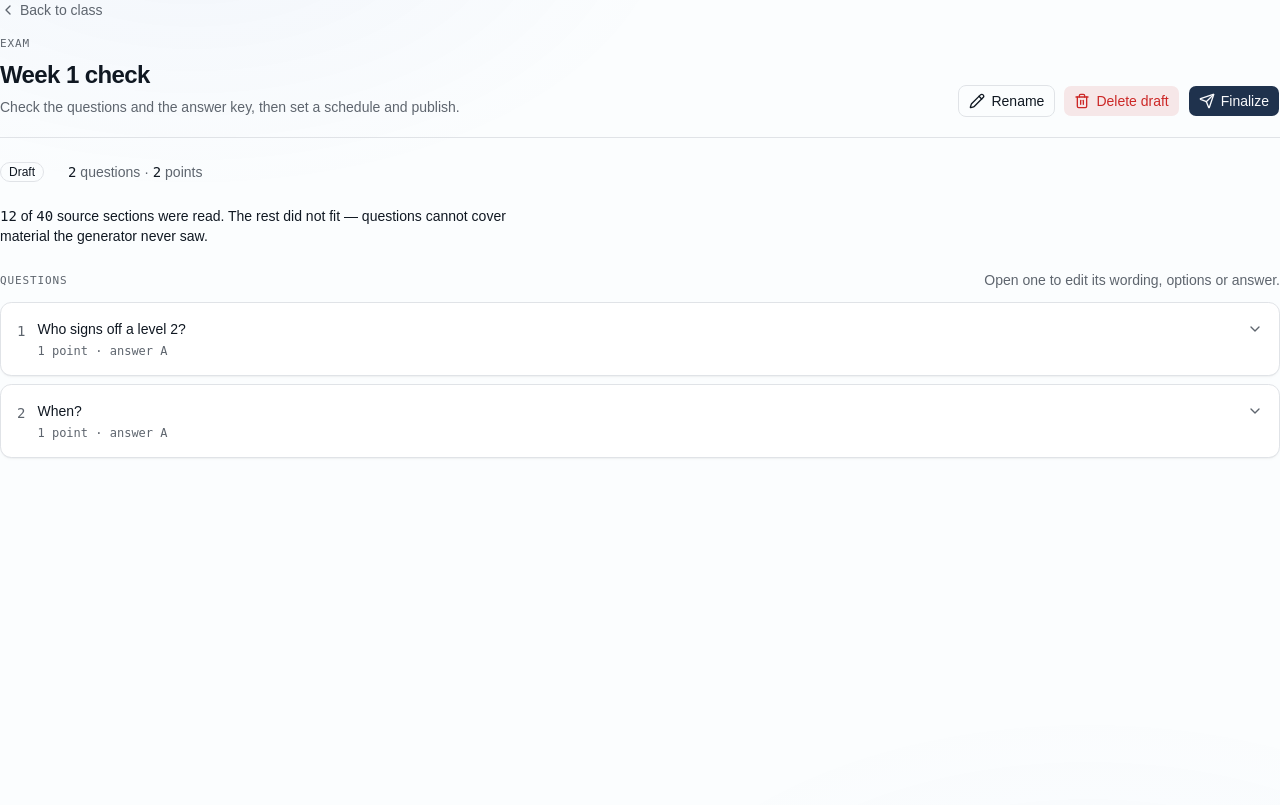
ExerciseDetailPage › reports a save that landed nothing as a plain failure, not a breakdown
Expected: the heading "Week 1 check" is shown, left=0, top=60, right=150, bottom=88
Click the button "1 Who signs off a level 2? 1 point · answer A".
click(112, 328)  # box left=1, top=302, right=1279, bottom=374
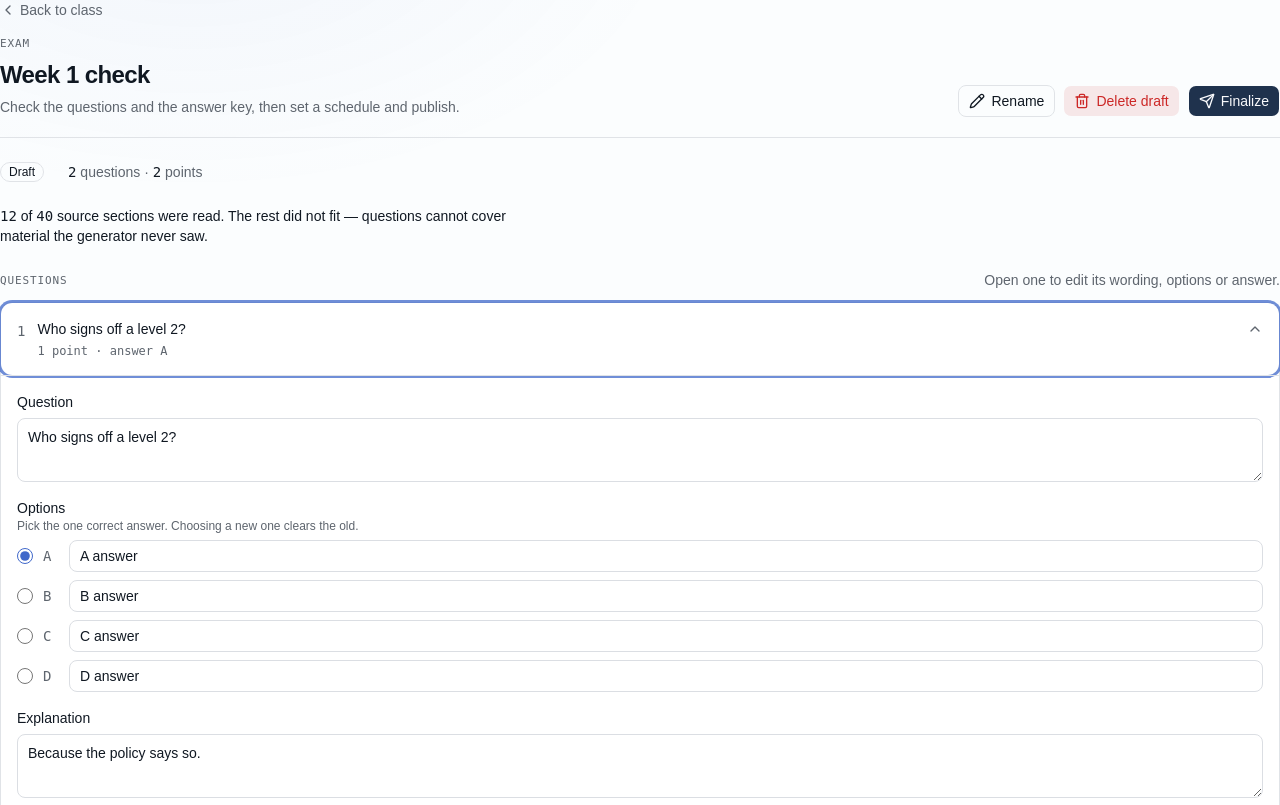
Replace the text in the field named "Option A text" with "The duty manager" at (666, 556), box left=69, top=540, right=1263, bottom=572
(page scrolled)
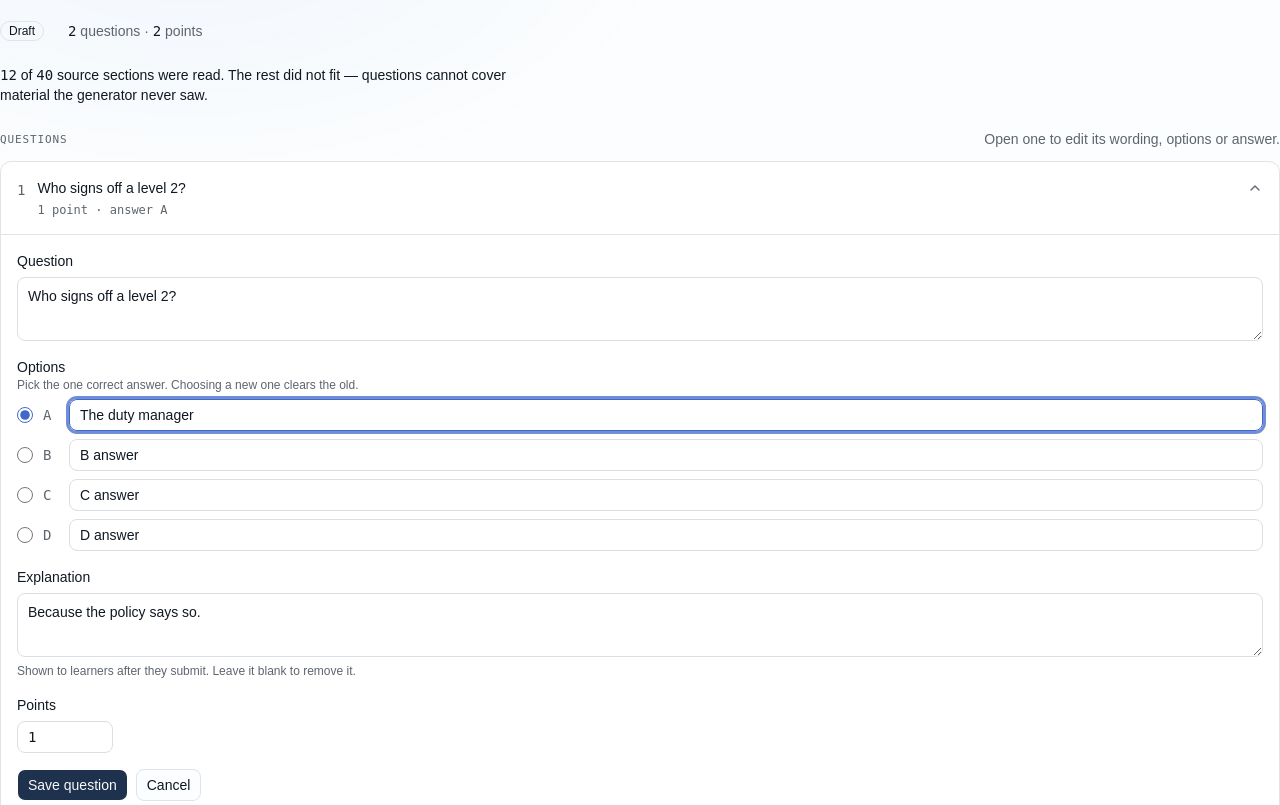
Click the button "Save question".
click(72, 784)  # box left=17, top=768, right=128, bottom=800
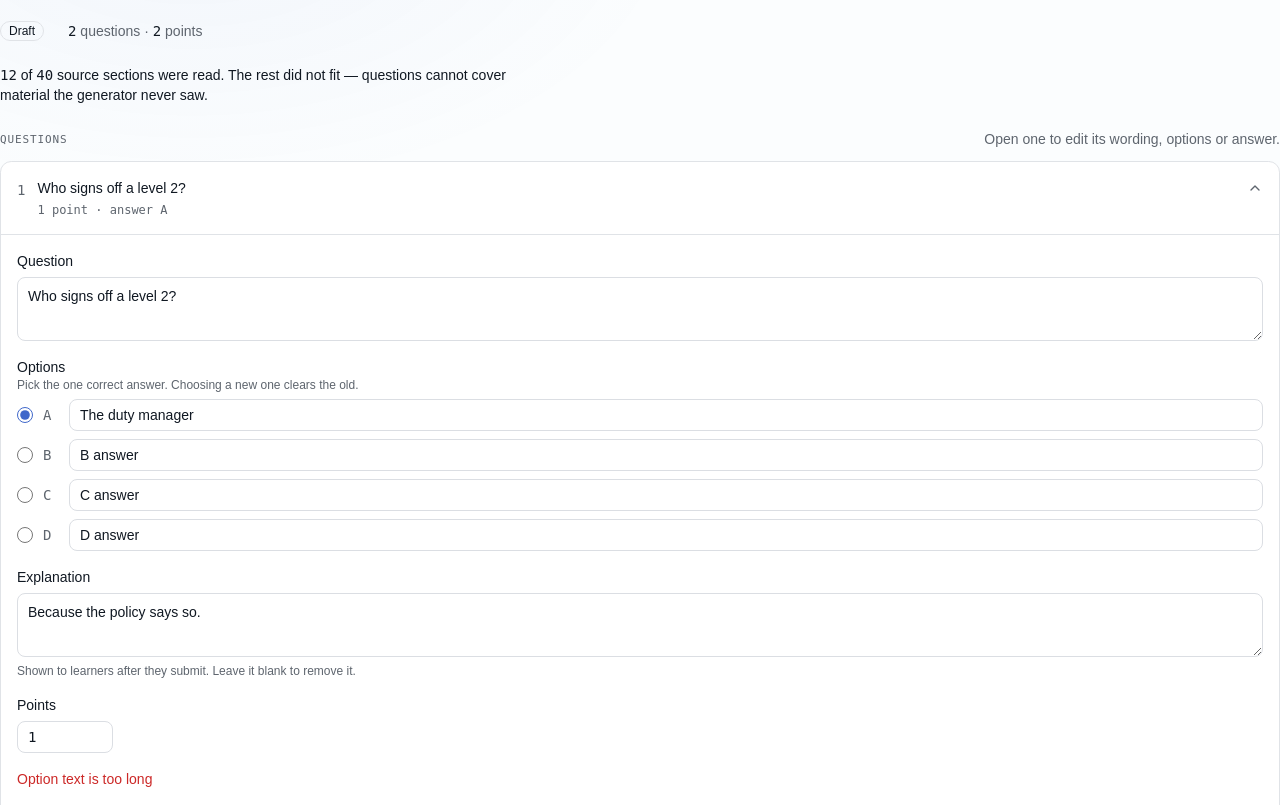
Now the message reads "Option text is too long", box left=17, top=770, right=152, bottom=786
